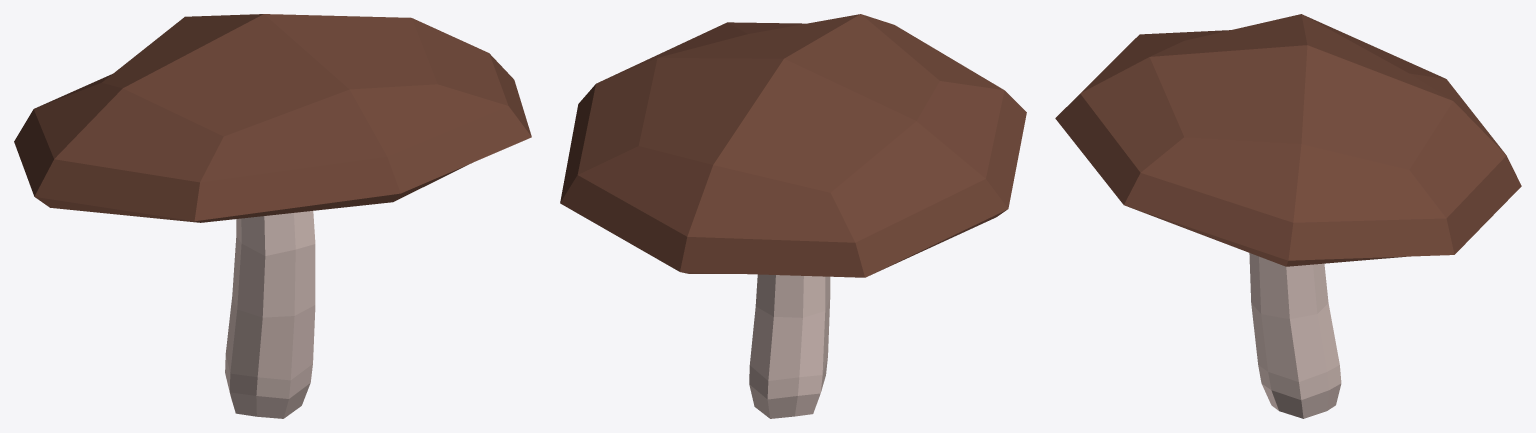
The model's file is MUSH_UMBRELLASMALL_BROWN.fbx.
3 views of the same model, side by side, from view 1: azimuth 30°, elevation 25°; view 2: azimuth 150°, elevation 25°; view 3: azimuth 270°, elevation 25° (orthographic). The views are drawn at different scales.
Visible parts, largest first — view 1: pCube17, pCube18; view 2: pCube17, pCube18; view 3: pCube17, pCube18.
Boxes of the visible parts, <box> form: pCube17: <box>14,14,531,222</box>; pCube18: <box>225,211,315,418</box>; pCube17: <box>560,14,1026,277</box>; pCube18: <box>749,274,830,418</box>; pCube17: <box>1055,14,1521,266</box>; pCube18: <box>1249,253,1341,418</box>.
Bounding box in the file's own units: 11.83 × 9.36 × 10.8.
